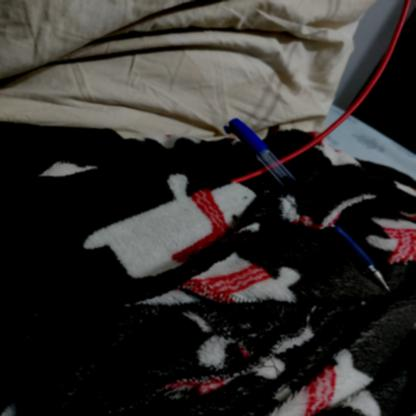Pen: (211, 101, 391, 296)
